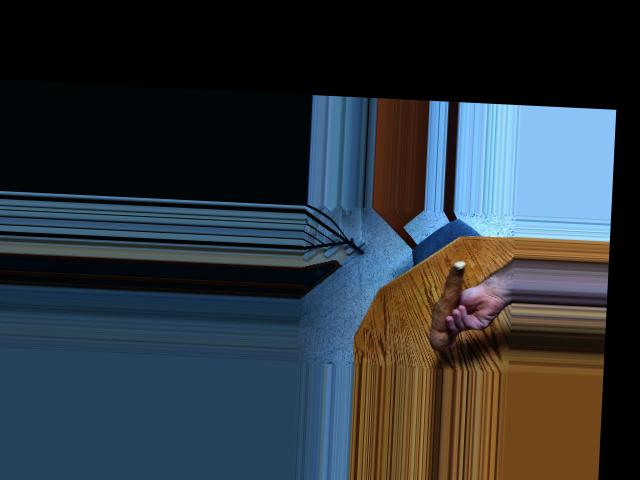sweet_potato: (425, 263, 469, 347)
